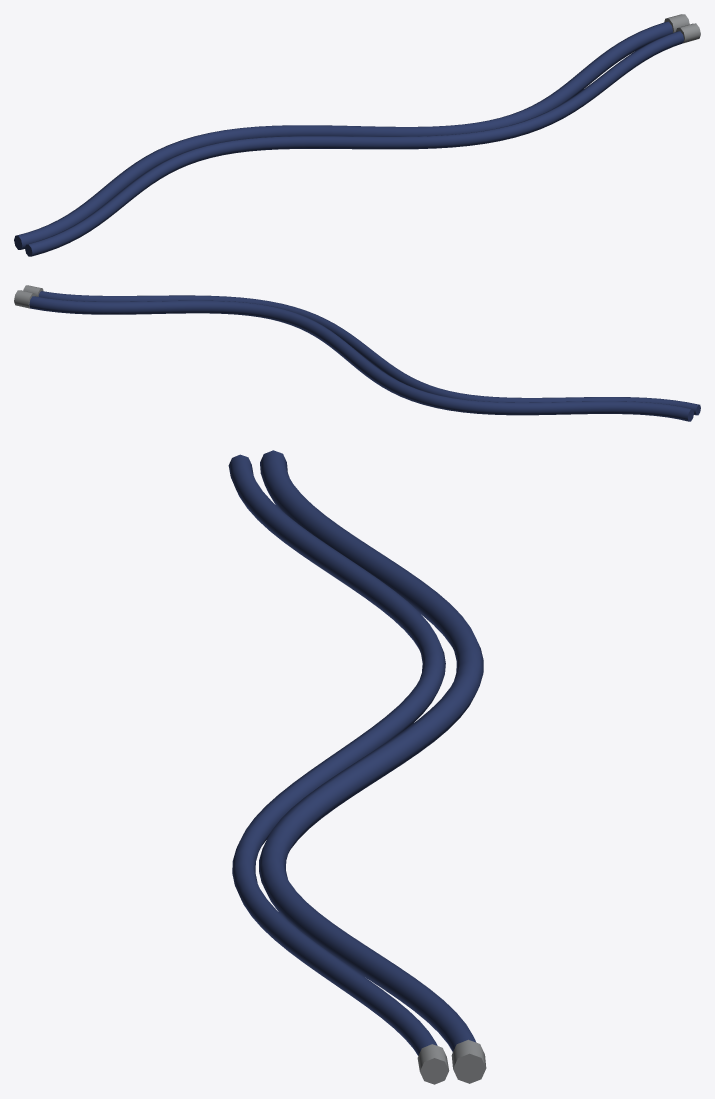
File: cable_run_b.glb
The picture shows the model from 3 angles, top to bottom: view 1: azimuth 30°, elevation 25°; view 2: azimuth 150°, elevation 25°; view 3: azimuth 270°, elevation 25°; orthographic projection. The views are drawn at different scales.
Visible parts, largest first — view 1: cable_blue__cable_run_b__ns, steel__cable_run_b__ns; view 2: cable_blue__cable_run_b__ns, steel__cable_run_b__ns; view 3: cable_blue__cable_run_b__ns, steel__cable_run_b__ns.
Boxes of the visible parts, <box> form: cable_blue__cable_run_b__ns: <box>14,21,683,256</box>; steel__cable_run_b__ns: <box>664,14,700,43</box>; cable_blue__cable_run_b__ns: <box>29,291,700,421</box>; steel__cable_run_b__ns: <box>14,285,43,308</box>; cable_blue__cable_run_b__ns: <box>228,450,483,1055</box>; steel__cable_run_b__ns: <box>417,1039,486,1084</box>.
Bounding box in the file's own units: 7.45 × 0.172 × 1.33.
